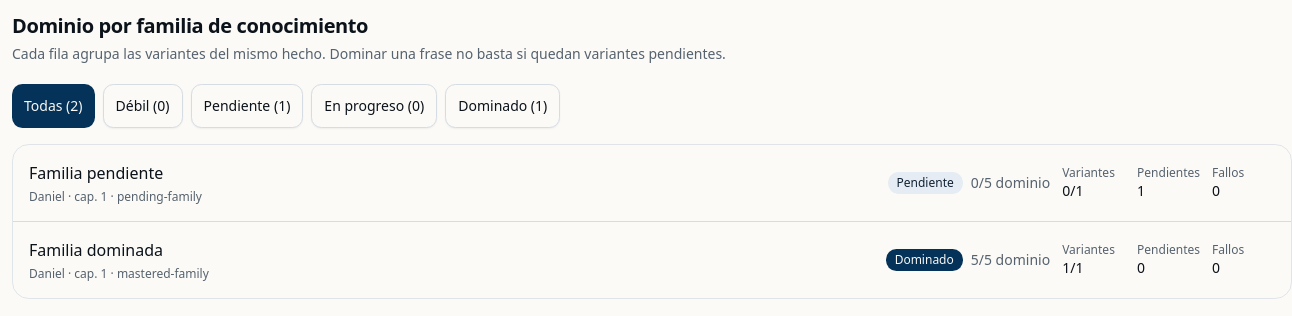
Test case: vistas de progreso y revisión › mantiene filtros de familias anunciados y operables
This screenshot has width=1292, height=316.
Click the button "Pendiente (1)".
click(247, 106)  # box [190,84,303,128]
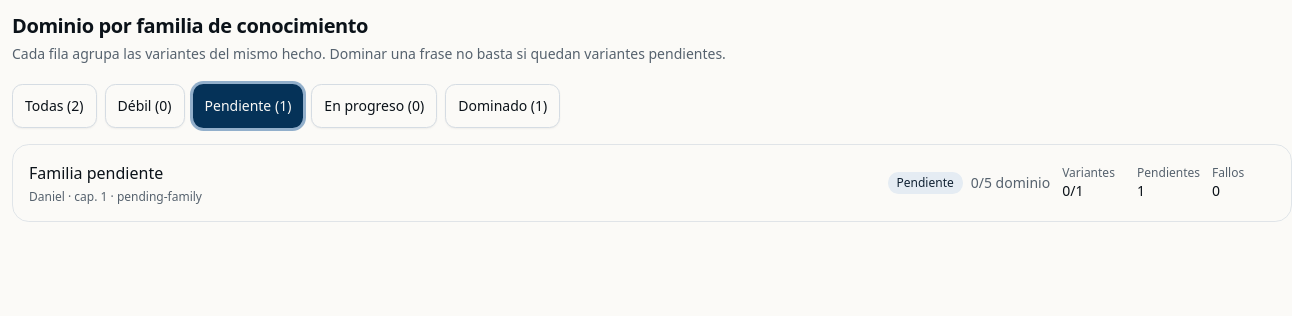
Check: the text "Familia pendiente" is shown, box [29,162,163,184]
Check: the text "Familia dominada" is gone
Click the button "Dominado (1)".
click(503, 106)  # box [445,84,560,128]
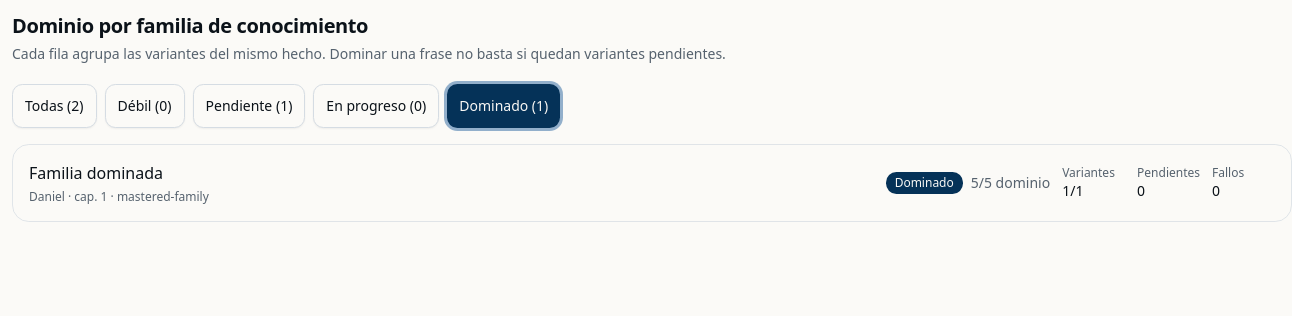
Check: the text "Familia dominada" is shown, box [29,162,163,184]
Check: the text "Familia pendiente" is gone
